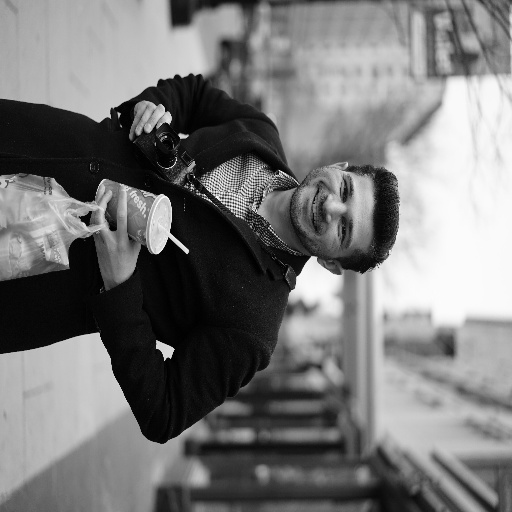hand: (88, 183, 141, 291), (121, 90, 169, 140)
